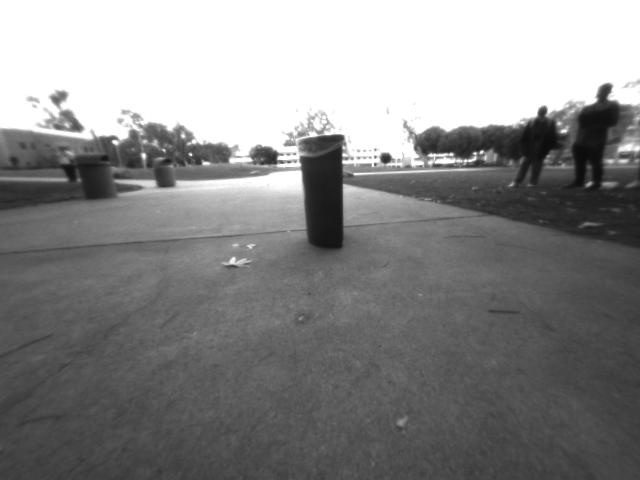trashcan_open: (293, 134, 348, 252)
